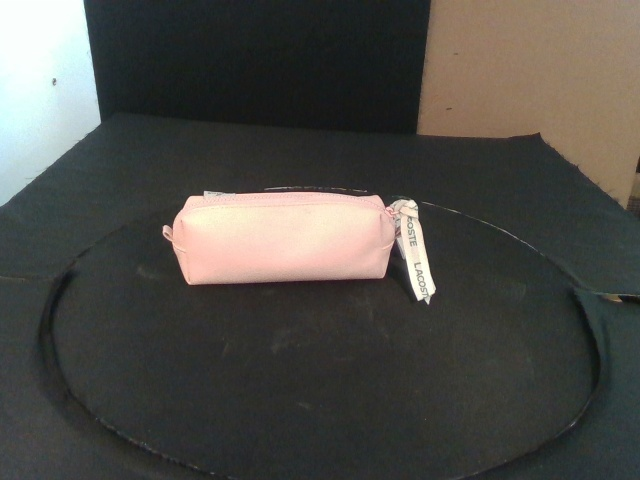pencil_case: (170, 195, 398, 284)
